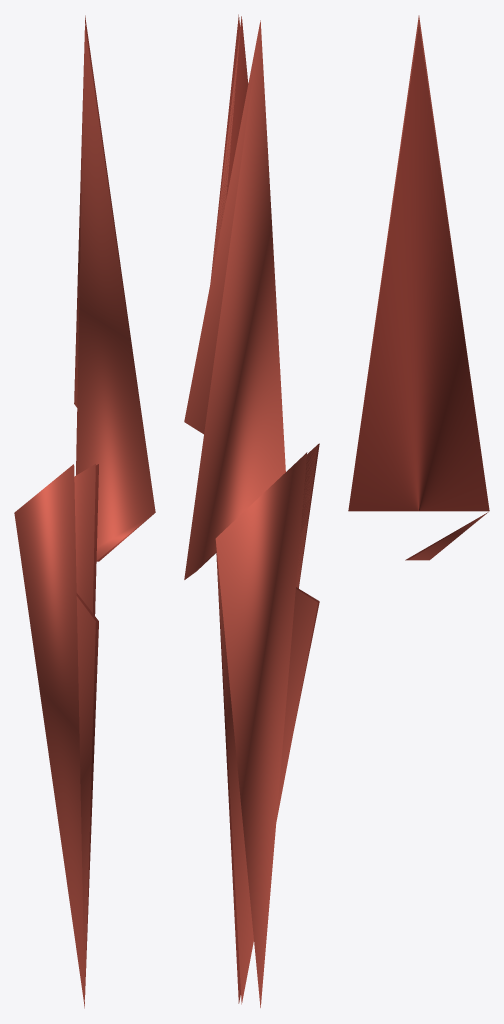
The model's file is equip_shield_dragon_sq.glb.
The picture shows the model from 3 angles, left to right: view 1: azimuth 90°, elevation 25°; view 2: azimuth 150°, elevation 25°; view 3: azimuth 270°, elevation 25°; orthographic projection.
Visible parts, largest first — view 1: equip_shield_dragon_sq; view 2: equip_shield_dragon_sq; view 3: equip_shield_dragon_sq.
Part boxes in pixels (left/top/right/bottom): equip_shield_dragon_sq: left=14, top=15, right=155, bottom=1008; equip_shield_dragon_sq: left=184, top=14, right=319, bottom=1007; equip_shield_dragon_sq: left=348, top=15, right=489, bottom=560.
Size of the model in its own units: 0.26 by 2 by 0.26.
